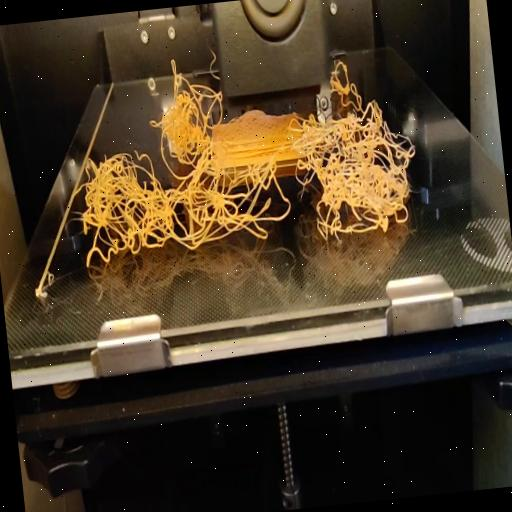spaghetti: (67, 101, 426, 270), (143, 42, 224, 132), (329, 56, 363, 112)
